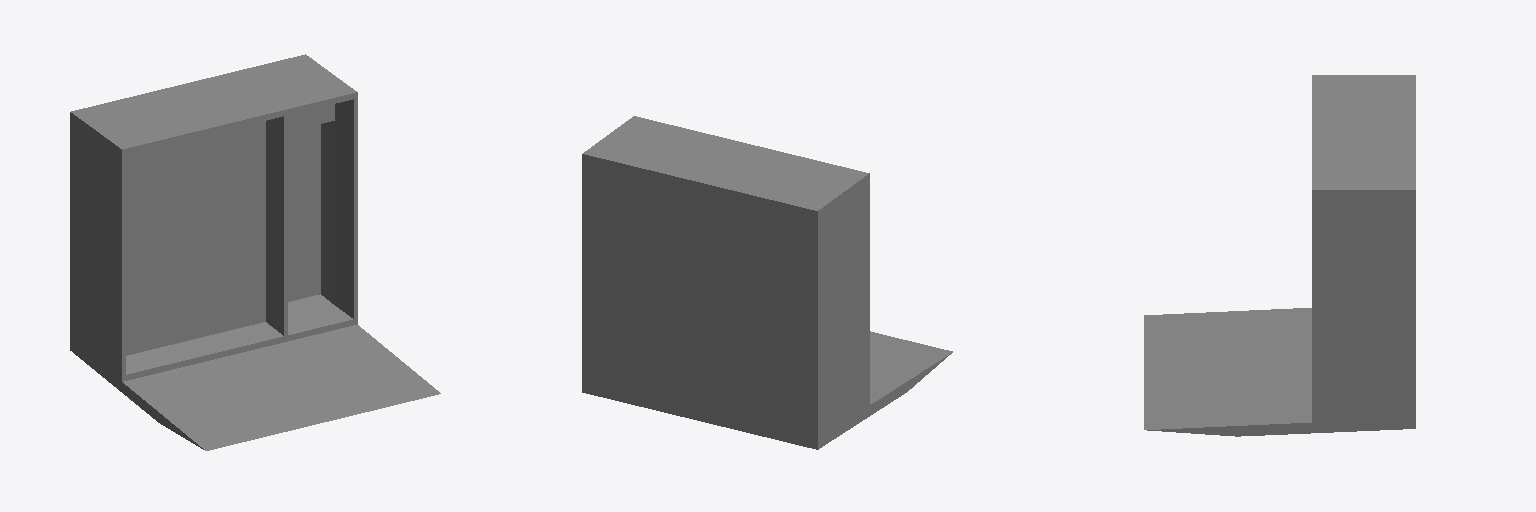
Rendered from window_big_simple.obj.
3 renders of one model, left to right at view 1: azimuth 30°, elevation 25°; view 2: azimuth 150°, elevation 25°; view 3: azimuth 270°, elevation 25°, orthographic.
Visible parts, largest first — view 1: raam02; view 2: raam02; view 3: raam02.
Boxes of the visible parts, <box> form: raam02: <box>70,54,440,450</box>; raam02: <box>582,116,952,449</box>; raam02: <box>1144,75,1415,436</box>.
Bounding box in the file's own units: 12.8 × 12.8 × 12.81.